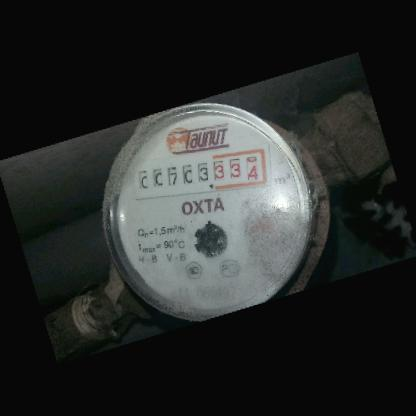digital_screen: (132, 154, 213, 198)
